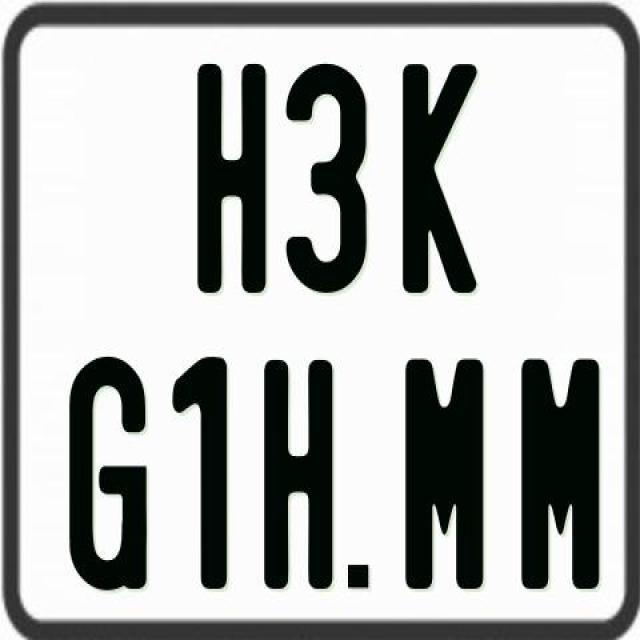1: (172, 352, 227, 594)
3: (286, 62, 374, 301)
G: (68, 355, 154, 595)
H: (262, 357, 334, 596), (194, 63, 266, 300)
K: (401, 59, 483, 290)
M: (518, 358, 600, 589), (405, 356, 483, 588)
